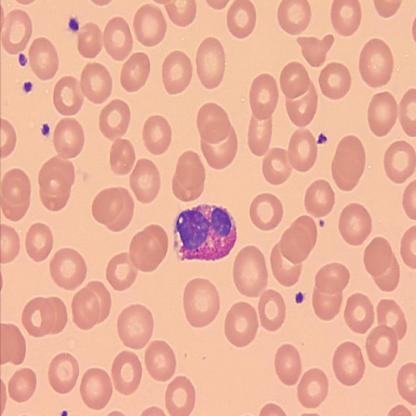Eosinophil: (172, 200, 238, 262), (170, 202, 174, 206)
